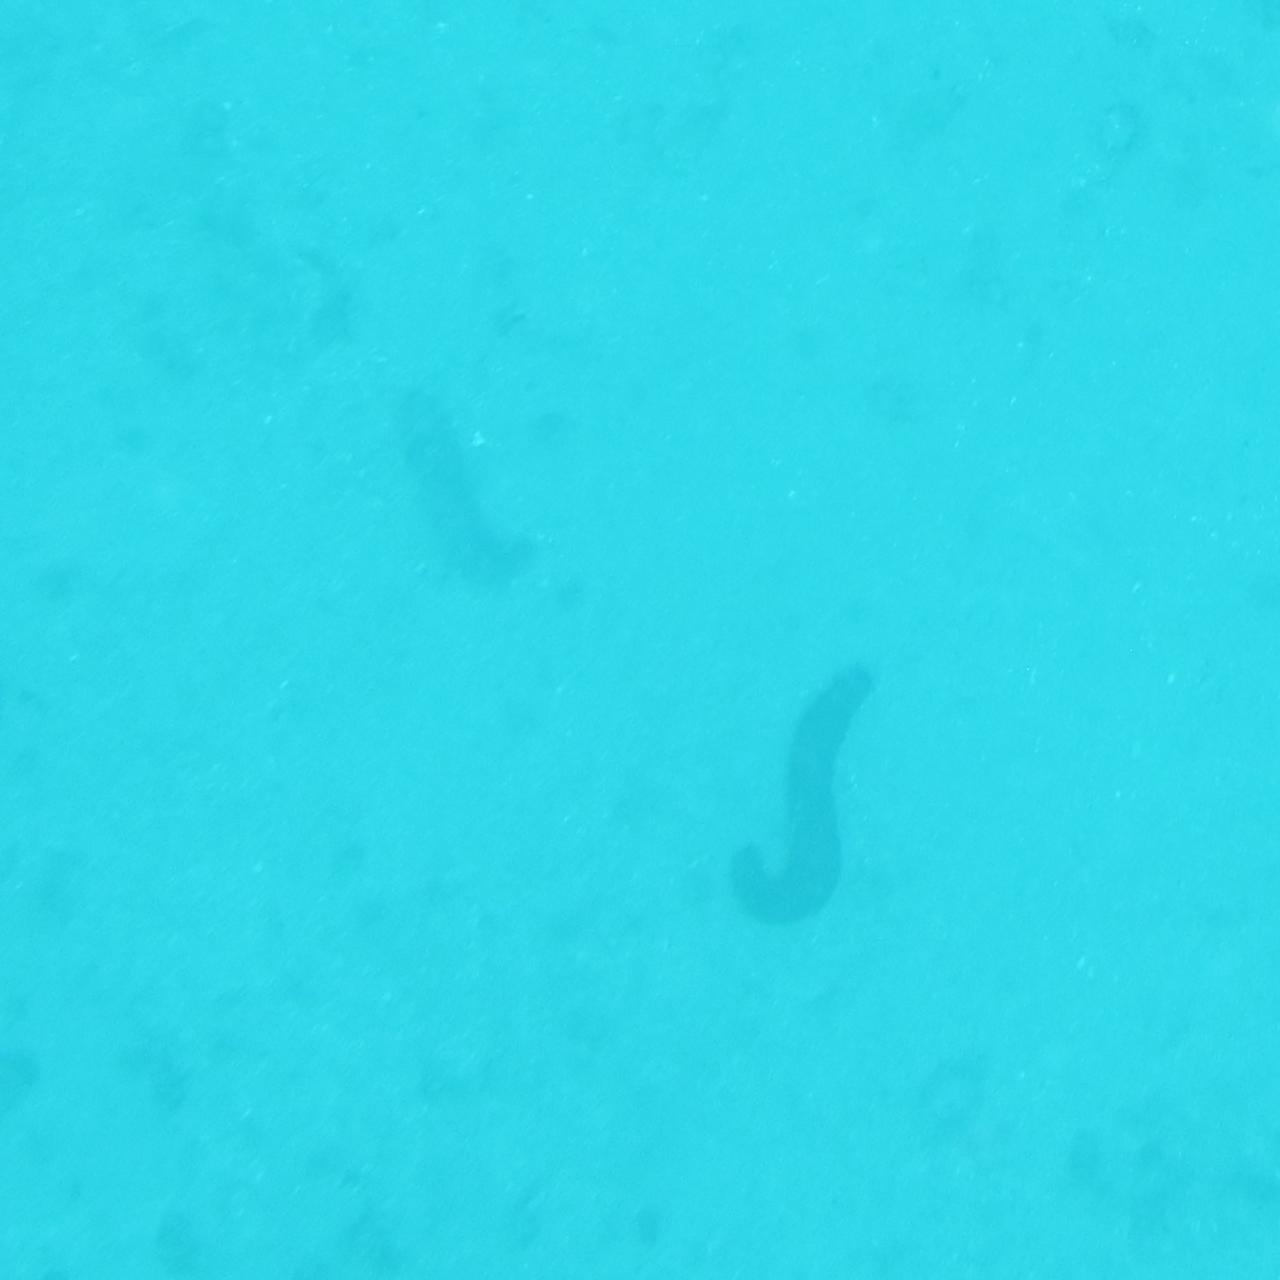Holothuria tubulosa: (726, 648, 914, 938), (388, 376, 535, 599)
